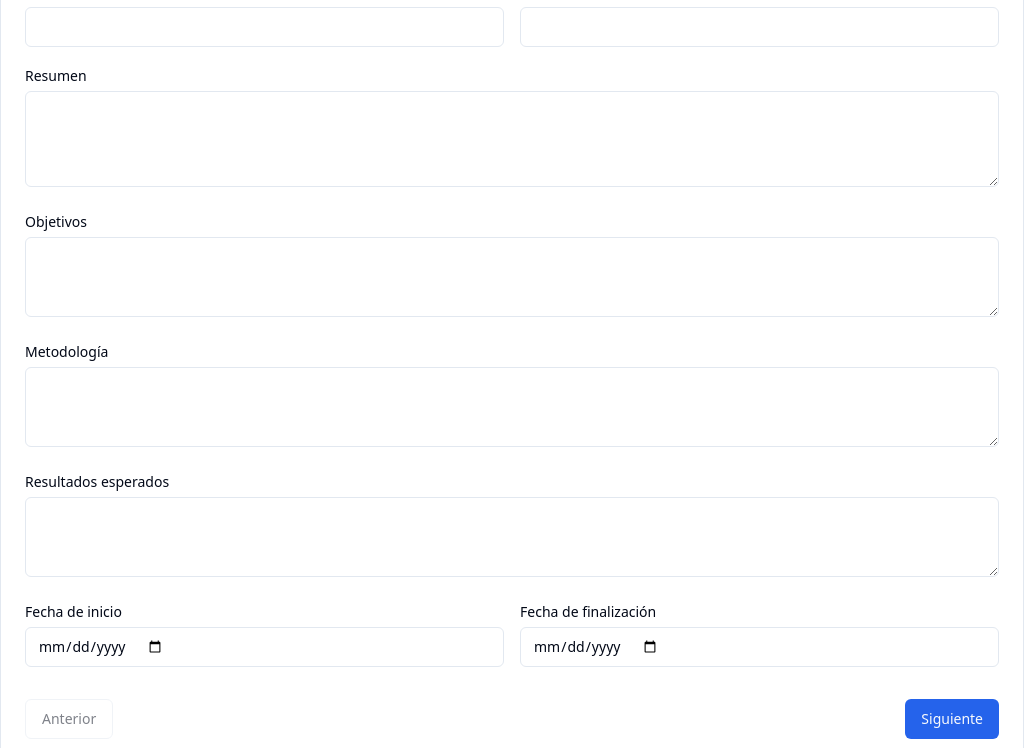
Test: ProjectWizard — validation › blocks advancing when the basic step is invalid
The width and height of the screenshot is (1024, 748).
(page scrolled)
Expected: the field named "título" is shown, [25,7,504,47]
Note: Leave title empty → step is invalid.
Click the button "Siguiente": (952, 719) [905,699,999,739]
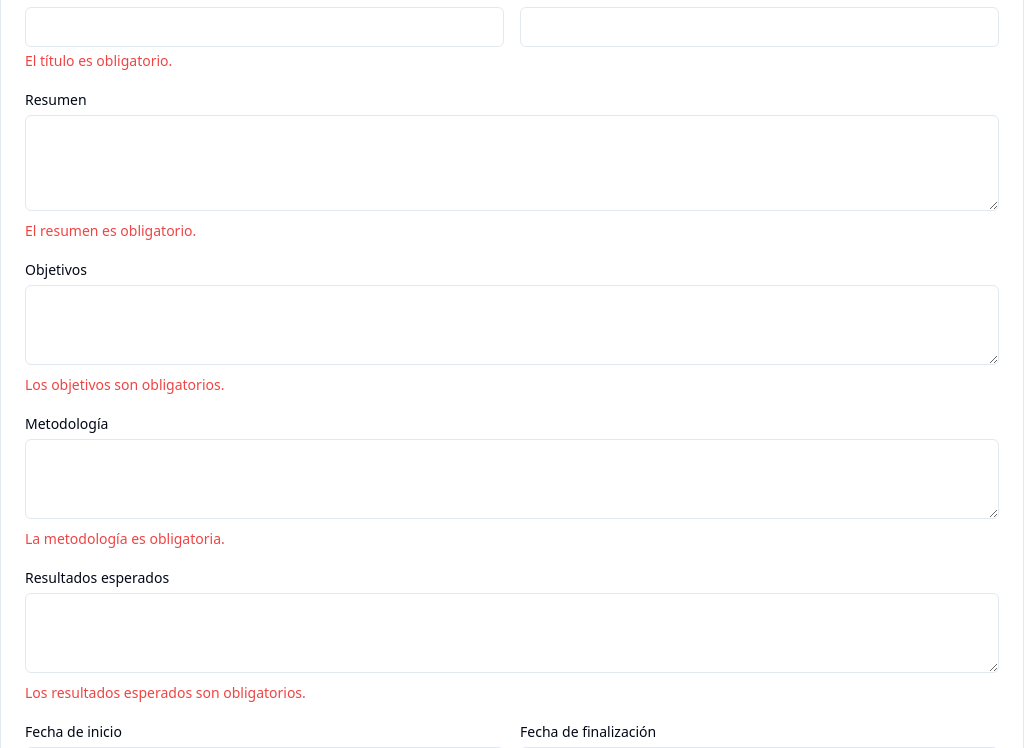
Now the text "El título es obligatorio." is shown, box [25,51,172,70]
